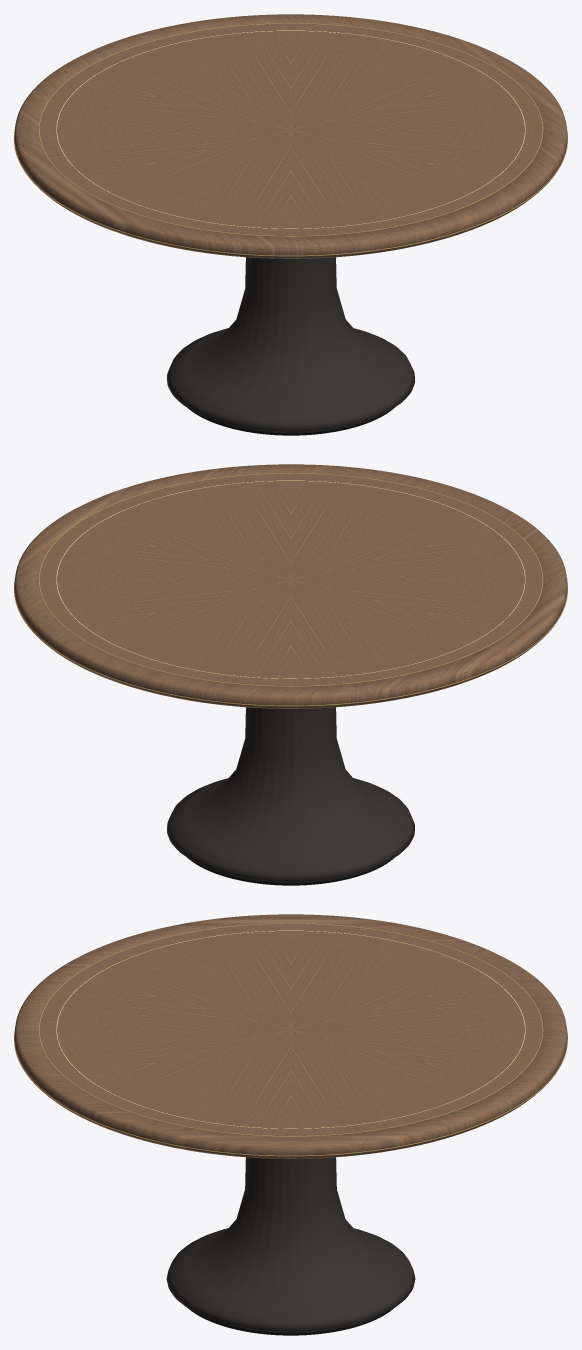
The model's file is table-premium.glb.
The picture shows the model from 3 angles, top to bottom: view 1: azimuth 30°, elevation 25°; view 2: azimuth 150°, elevation 25°; view 3: azimuth 270°, elevation 25°; orthographic projection.
Visible parts, largest first — view 1: Table_Walnut_Surface, Table_Pedestal, Table_Walnut_Rim, Table_Brass_Inlay, Table_Brass_Edge, Table_Glow_EventRing, Table_Foot_Pad; view 2: Table_Walnut_Surface, Table_Pedestal, Table_Walnut_Rim, Table_Brass_Inlay, Table_Brass_Edge, Table_Glow_EventRing, Table_Foot_Pad; view 3: Table_Walnut_Surface, Table_Pedestal, Table_Walnut_Rim, Table_Brass_Inlay, Table_Brass_Edge, Table_Glow_EventRing, Table_Foot_Pad.
Part boxes in pixels (x1,y1,x2,y2): Table_Walnut_Surface: [39, 23, 542, 235]; Table_Pedestal: [167, 257, 414, 431]; Table_Walnut_Rim: [14, 14, 567, 258]; Table_Brass_Inlay: [38, 23, 543, 236]; Table_Brass_Edge: [14, 132, 567, 256]; Table_Glow_EventRing: [56, 30, 525, 228]; Table_Foot_Pad: [188, 408, 393, 435]; Table_Walnut_Surface: [39, 473, 542, 685]; Table_Pedestal: [167, 707, 414, 881]; Table_Walnut_Rim: [14, 464, 567, 708]; Table_Brass_Inlay: [38, 473, 543, 686]; Table_Brass_Edge: [14, 582, 567, 706]; Table_Glow_EventRing: [56, 480, 525, 678]; Table_Foot_Pad: [188, 858, 393, 885]; Table_Walnut_Surface: [39, 923, 542, 1135]; Table_Pedestal: [166, 1157, 415, 1331]; Table_Walnut_Rim: [14, 914, 567, 1158]; Table_Brass_Inlay: [38, 923, 543, 1136]; Table_Brass_Edge: [14, 1032, 567, 1156]; Table_Glow_EventRing: [56, 930, 525, 1128]; Table_Foot_Pad: [188, 1308, 393, 1335].
Bounding box in the file's own units: 1.44 × 0.7393 × 1.44.
6 materials, 2 textured.
